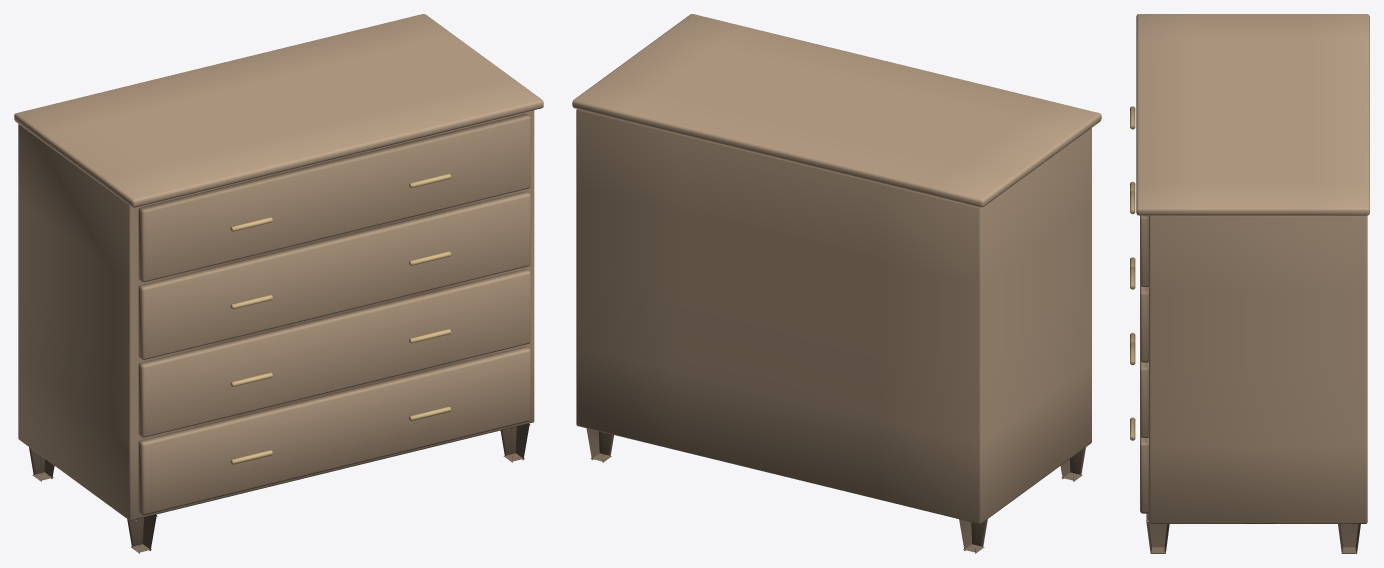
Rendered from dresser.glb.
3 views of the same model, side by side, from view 1: azimuth 30°, elevation 25°; view 2: azimuth 150°, elevation 25°; view 3: azimuth 270°, elevation 25° (orthographic). The views are drawn at different scales.
Parts seen in each view (by area): view 1: p_dresser; view 2: p_dresser; view 3: p_dresser.
Part boxes in pixels (box(x1,y1,x2,y2)): p_dresser: box(14, 14, 543, 553); p_dresser: box(572, 14, 1101, 553); p_dresser: box(1130, 14, 1369, 553).
Bounding box in the file's own units: 1.02 × 0.8536 × 0.5267.
